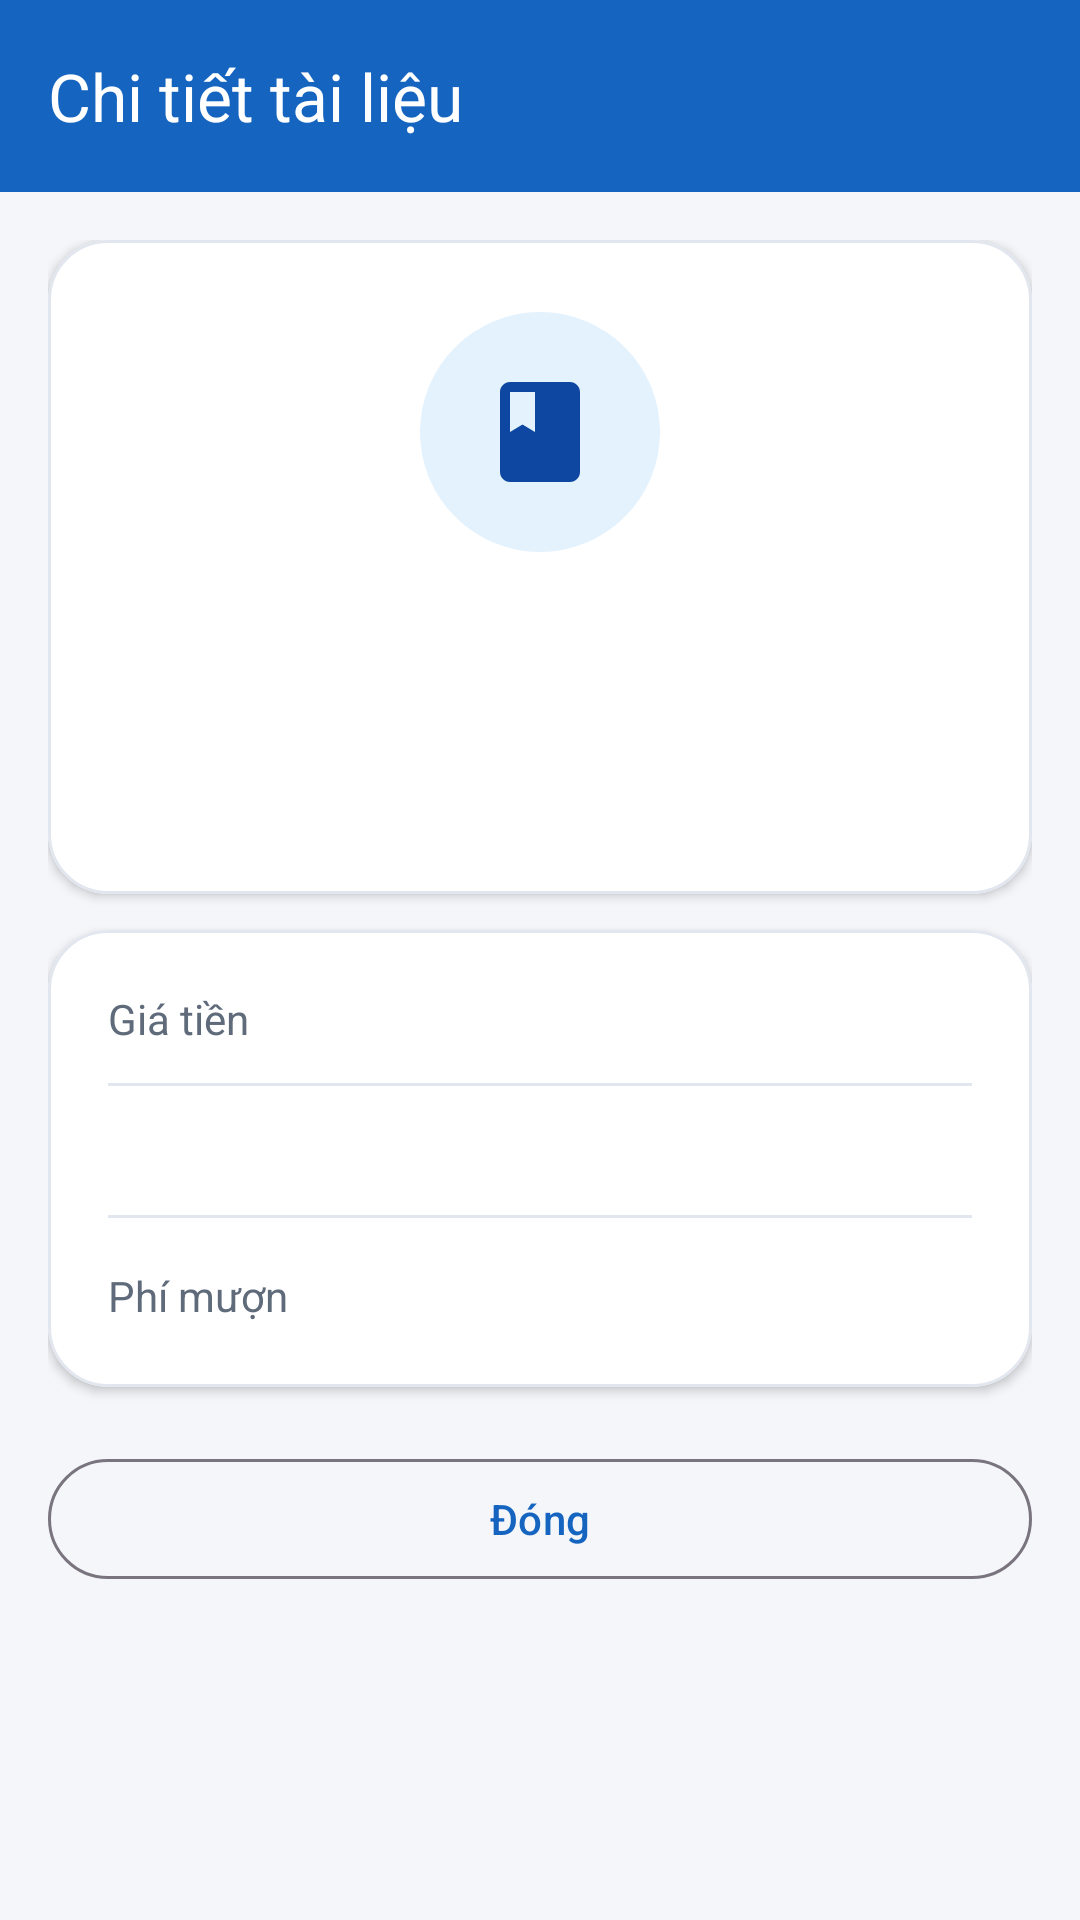

Point at icon controls on the screen. Image size 1080px x 1920px, points as (x=x, y=y).
Loại tài liệu: (x=540, y=432)
